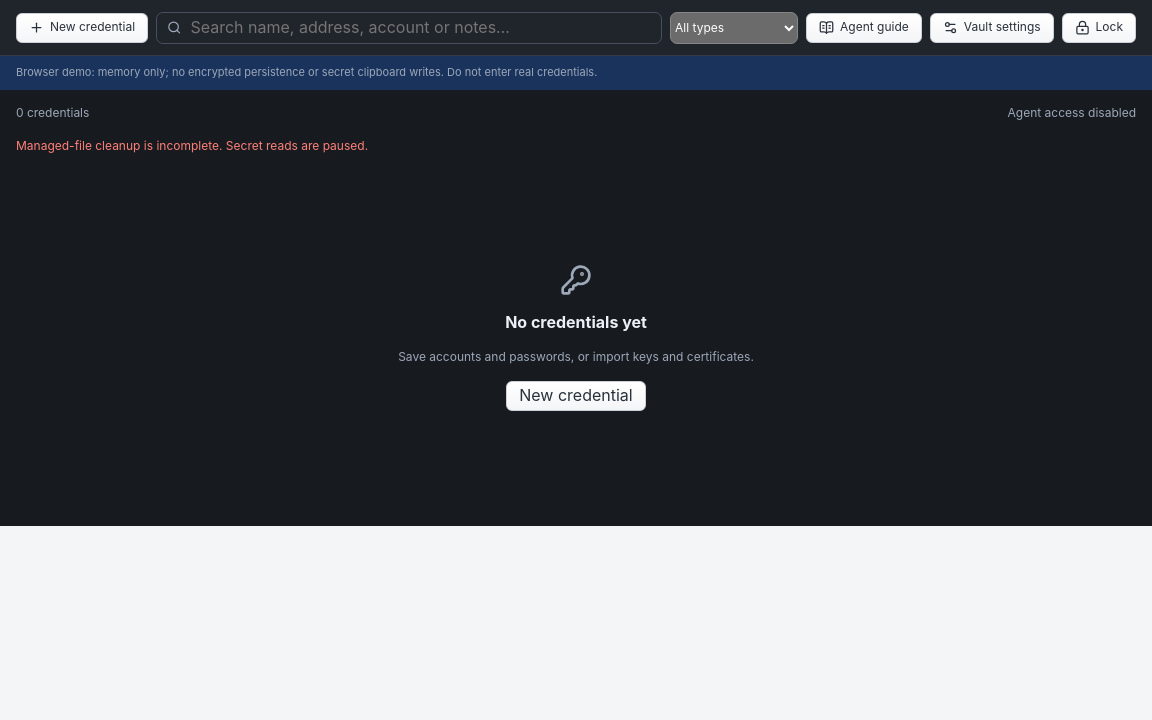
Test: credential page workflows › preserves list failure feedback through the status recheck and clears it after a successful search
expect the message shows "Managed-file cleanup is incomplete": met, box [16, 138, 368, 153]
expect the heading "No credentials yet" is shown: met, box [505, 312, 647, 334]
In the search field named "Search credentials": (420, 28) [188, 15, 651, 40], type "First"
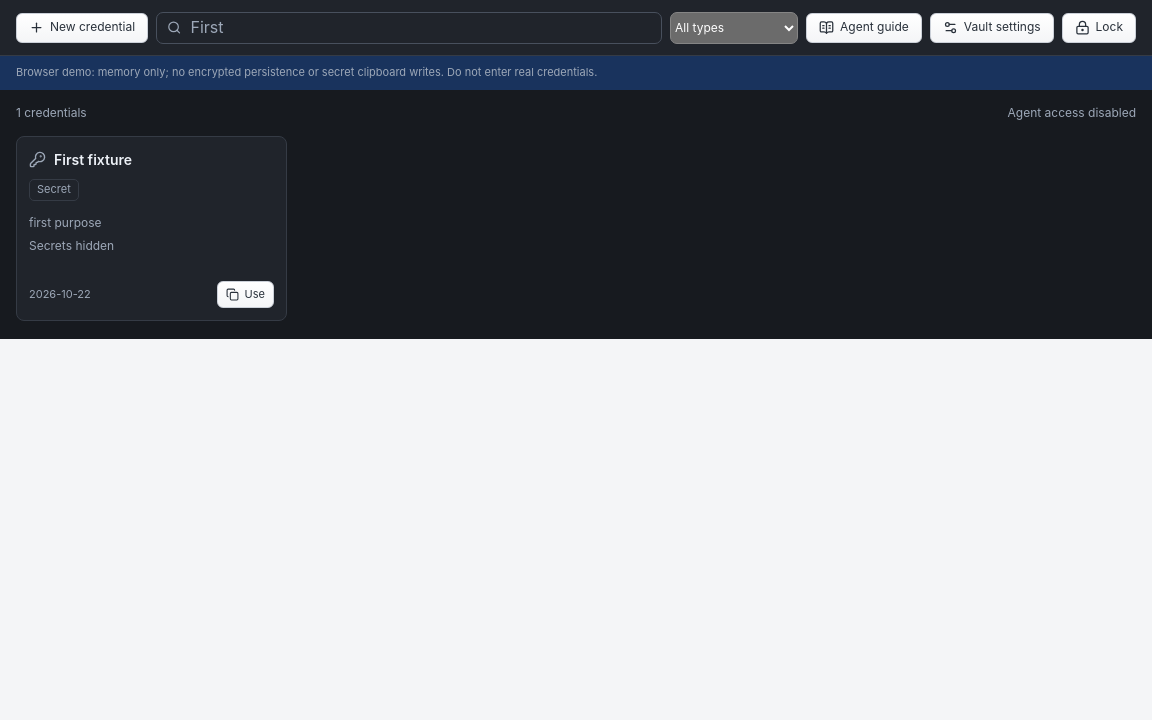
expect the button "First fixture" is shown: met, box [54, 149, 132, 170]
expect the message "Managed-file cleanup is incomplete. Secret reads are paused." is gone: met
